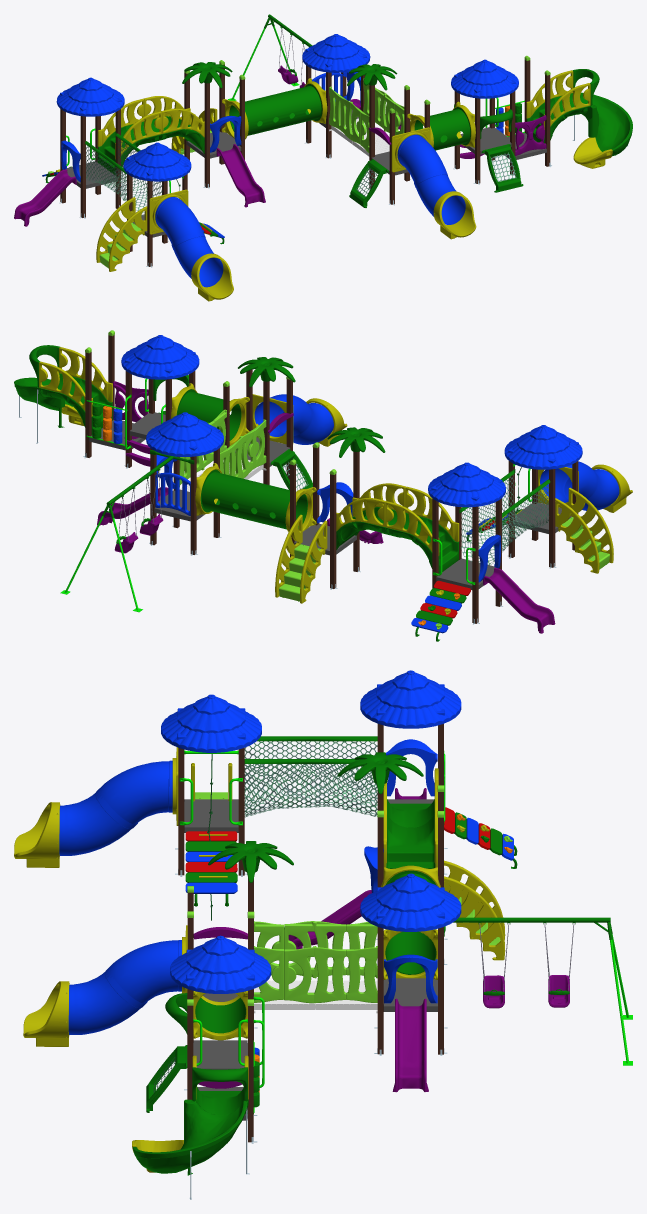
The picture shows the model from 3 angles, top to bottom: view 1: azimuth 30°, elevation 25°; view 2: azimuth 150°, elevation 25°; view 3: azimuth 270°, elevation 25°; orthographic projection. The views are drawn at different scales.
Visible parts, largest first — view 1: object 10, TOBOGA M4.001, TOBOGA M4, object 59, TOLDO M2, TOLDO M2.003, TOLDO M2.002, object 50, TOLDO M2.001, ESCORREGADOR M5.002, ESCORREGADOR M5.001, TEIA DE ARANHA M2.002 (+28 smaller); view 2: object 10, object 59, TOBOGA M4.001, TOBOGA M4, object 50, TOLDO M2, TOLDO M2.003, TOLDO M2.002, TOLDO M2.001, object 65, object 31, ESCORREGADOR M5.001 (+40 smaller); view 3: object 10, object 59, TOBOGA M4, TOBOGA M4.001, object 50, TOLDO M2.002, TOLDO M2.003, TOLDO M2.001, TOLDO M2, ESCORREGADOR M5, LATERAL M2, object 65 (+23 smaller).
Boxes of the visible parts, x1,y1,x2,y2 form: object 10: [97, 69, 632, 174]; TOBOGA M4.001: [391, 127, 476, 239]; TOBOGA M4: [149, 189, 233, 301]; object 59: [221, 78, 404, 152]; TOLDO M2: [123, 142, 191, 181]; TOLDO M2.003: [56, 77, 124, 116]; TOLDO M2.002: [451, 59, 518, 98]; object 50: [85, 132, 163, 215]; TOLDO M2.001: [302, 34, 370, 72]; ESCORREGADOR M5.002: [216, 144, 265, 207]; ESCORREGADOR M5.001: [14, 169, 76, 226]; TEIA DE ARANHA M2.002: [481, 144, 523, 192]; object 10: [14, 345, 458, 573]; object 59: [179, 409, 316, 531]; TOBOGA M4.001: [252, 394, 347, 446]; TOBOGA M4: [538, 461, 632, 512]; object 50: [459, 469, 550, 565]; TOLDO M2: [504, 425, 582, 469]; TOLDO M2.003: [428, 462, 505, 507]; TOLDO M2.002: [121, 335, 199, 379]; TOLDO M2.001: [146, 412, 223, 456]; object 65: [86, 383, 521, 530]; object 31: [102, 450, 194, 518]; ESCORREGADOR M5.001: [483, 567, 555, 633]; object 10: [132, 799, 436, 1199]; object 59: [254, 865, 440, 1003]; TOBOGA M4: [14, 747, 178, 867]; TOBOGA M4.001: [23, 925, 187, 1046]; object 50: [244, 736, 377, 817]; TOLDO M2.002: [170, 935, 271, 993]; TOLDO M2.003: [360, 670, 461, 728]; TOLDO M2.001: [360, 873, 461, 931]; TOLDO M2: [161, 694, 261, 752]; ESCORREGADOR M5: [392, 998, 428, 1092]; LATERAL M2: [444, 876, 505, 960]; object 65: [184, 750, 259, 1113].
Bounding box in the file's own units: 13.92 × 3.46 × 9.32.
68 materials, 3 textured.
